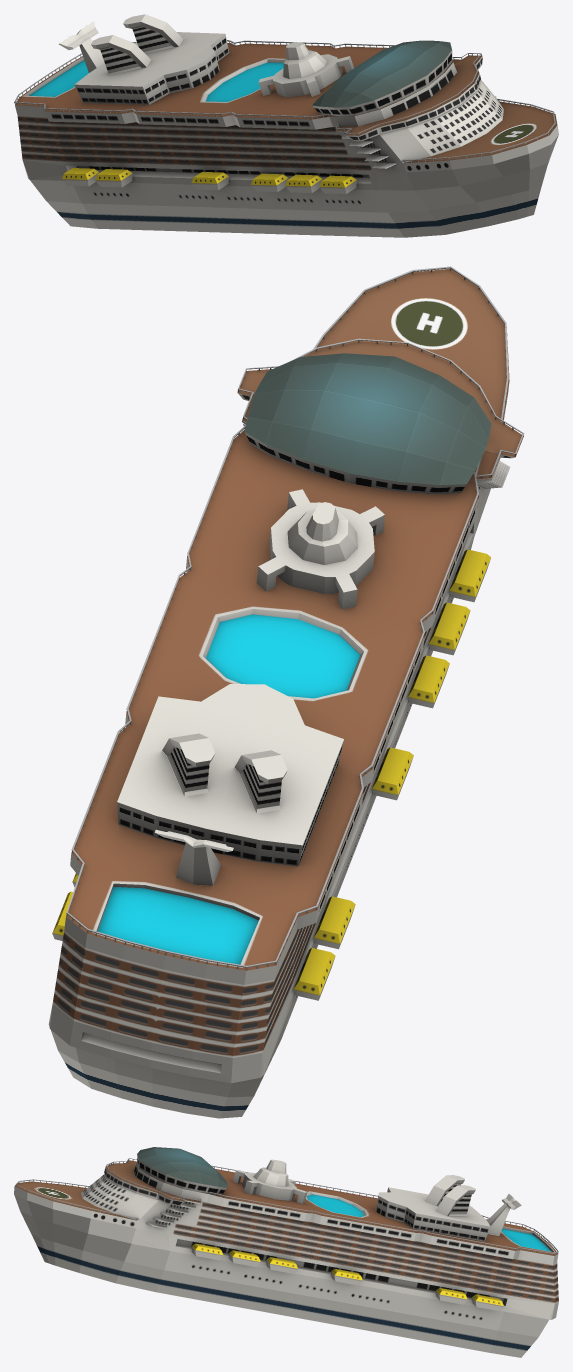
File: boat.glb
3 views of the same model, one above another, from view 1: azimuth 30°, elevation 25°; view 2: azimuth 150°, elevation 25°; view 3: azimuth 270°, elevation 25° (orthographic). The views are drawn at different scales.
Visible parts, largest first — view 1: CruiseLiner_mesh; view 2: CruiseLiner_mesh; view 3: CruiseLiner_mesh.
Part boxes in pixels (x1,y1,x2,y2): CruiseLiner_mesh: (14, 14, 558, 237); CruiseLiner_mesh: (48, 266, 524, 1118); CruiseLiner_mesh: (14, 1147, 558, 1357).
Bounding box in the file's own units: 5.09 × 5.73 × 12.36.
1 material, 1 textured.
